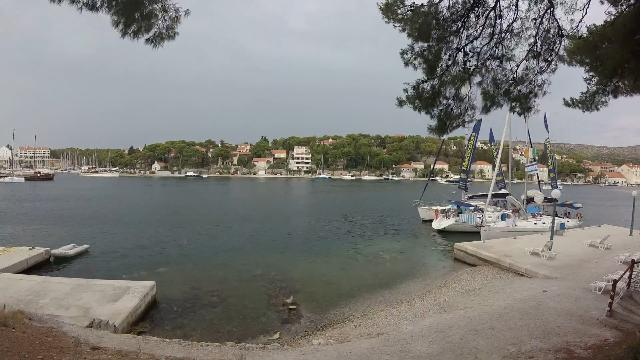Freighter: (1, 166, 64, 182)
Sailboat: (1, 173, 30, 185)
